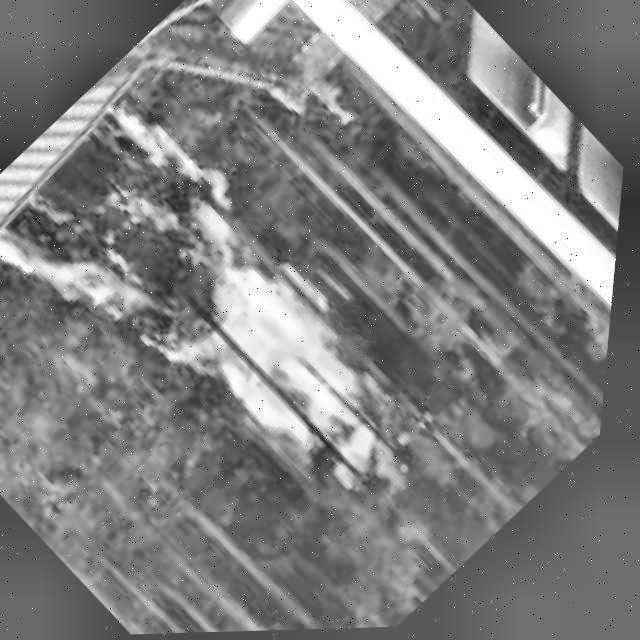Fire: (0, 76, 486, 581)
